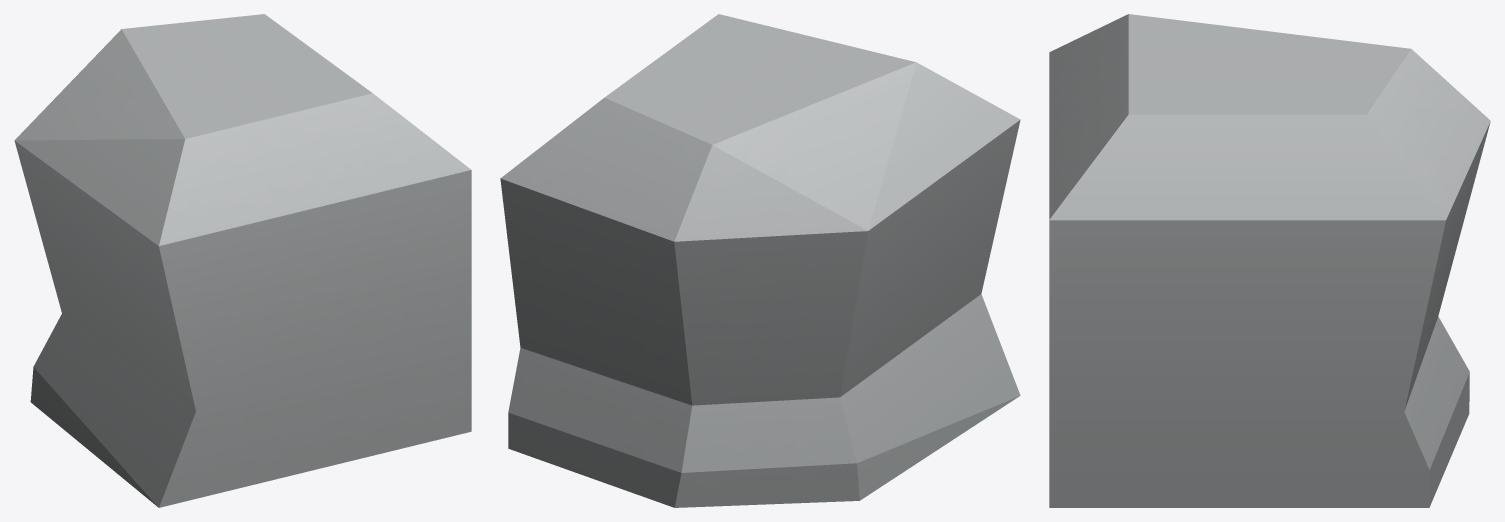
The model's file is stone_4.fbx.
3 renders of one model, left to right at view 1: azimuth 30°, elevation 25°; view 2: azimuth 150°, elevation 25°; view 3: azimuth 270°, elevation 25°, orthographic. The views are drawn at different scales.
Visible parts, largest first — view 1: stone_4; view 2: stone_4; view 3: stone_4.
Boxes of the visible parts, left/top/right/bottom form: stone_4: left=14, top=14, right=471, bottom=507; stone_4: left=500, top=14, right=1020, bottom=507; stone_4: left=1049, top=14, right=1490, bottom=507.
Size of the model in its own units: 1 by 1 by 1.11.
